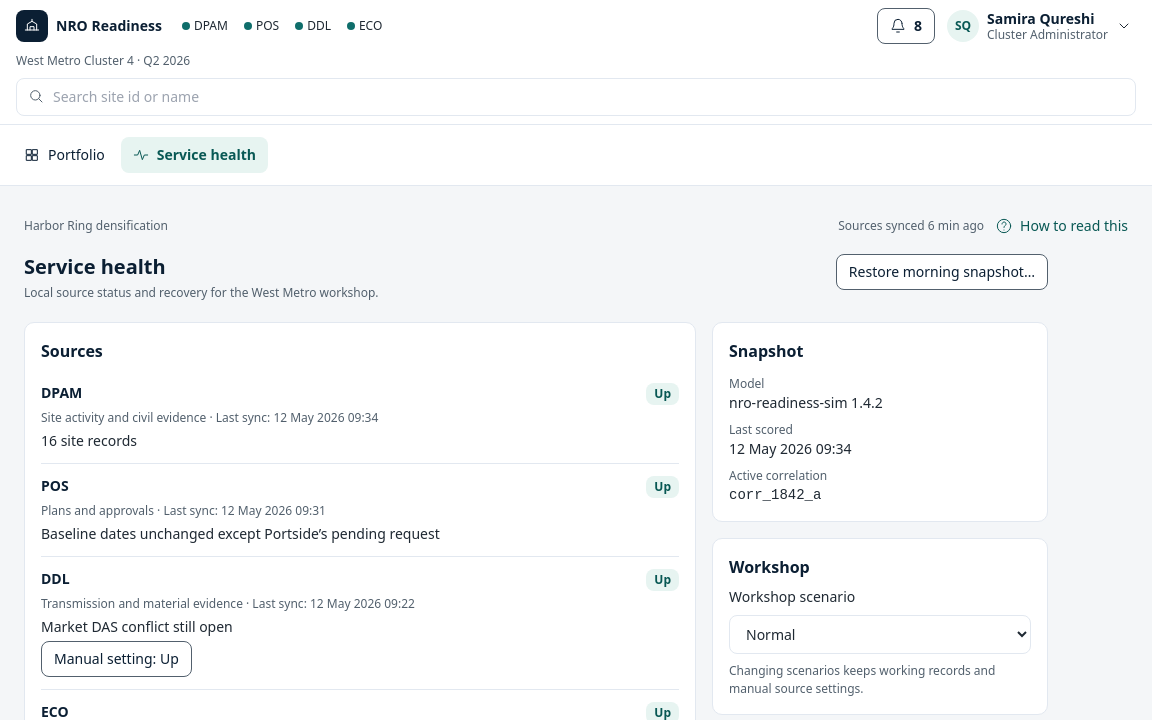
reports a failed manual outage without changing controls, storage, or route
What coordinates should you click on to do the following:
click the switch labelled "Manual setting: Up"
I would click on:
 (116, 659)
Its box is [41, 641, 192, 677].
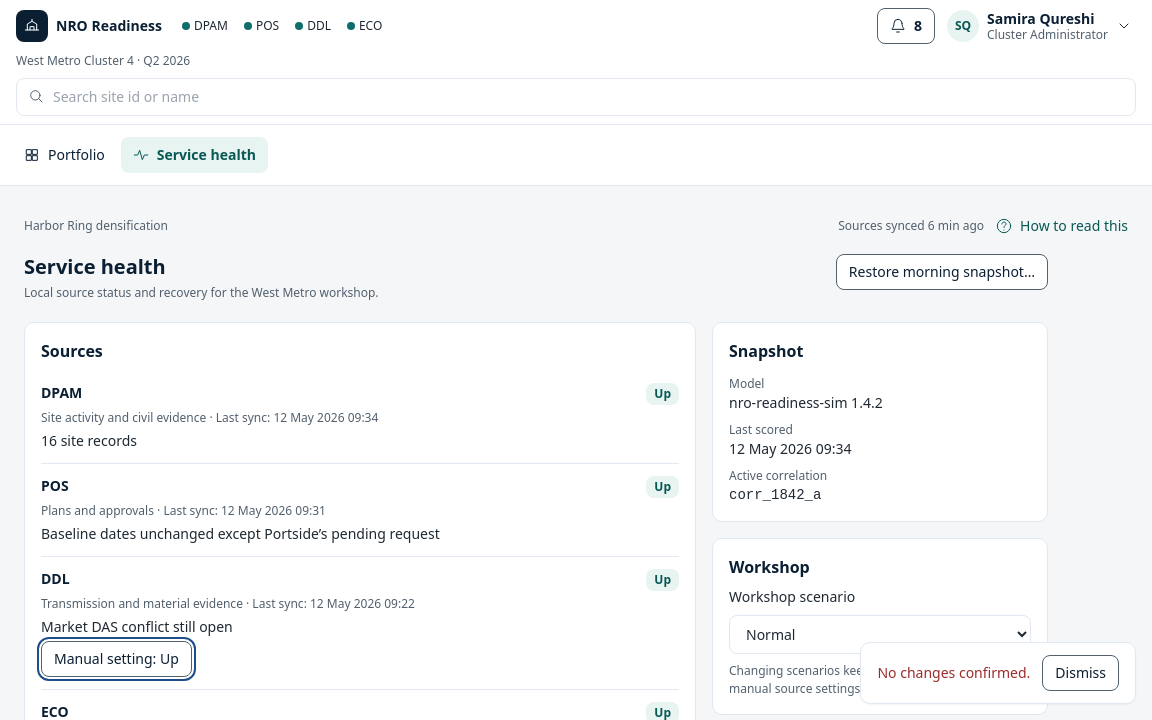
Expected: the heading "Service health" is shown, [24, 253, 166, 280]
Expected: the text "No changes confirmed." is shown, [878, 663, 1030, 683]
